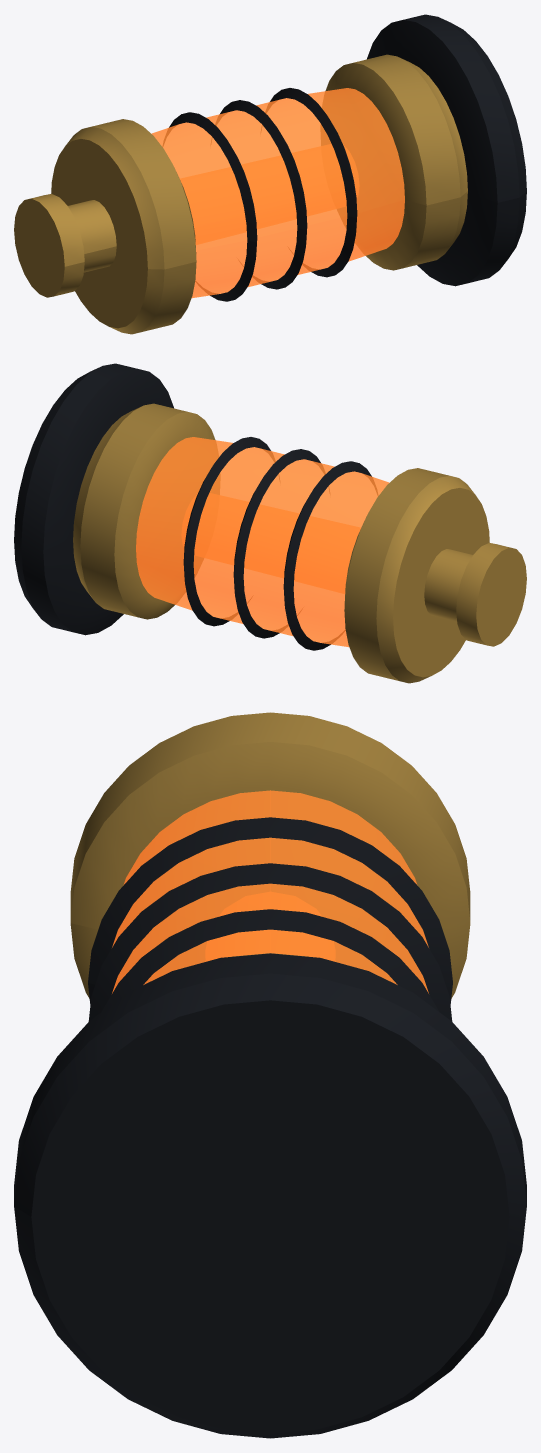
The model's file is meleemod_infusion_ember.glb.
3 renders of one model, top to bottom at view 1: azimuth 30°, elevation 25°; view 2: azimuth 150°, elevation 25°; view 3: azimuth 270°, elevation 25°, orthographic. The views are drawn at different scales.
Parts seen in each view (by area): view 1: meleemod_infusion_ember_glass, meleemod_infusion_ember_ring_a, meleemod_infusion_ember_ring_b, meleemod_infusion_ember_saddle, meleemod_infusion_ember_valve, meleemod_infusion_ember_rib2, meleemod_infusion_ember_rib1, meleemod_infusion_ember_rib0; view 2: meleemod_infusion_ember_glass, meleemod_infusion_ember_ring_a, meleemod_infusion_ember_ring_b, meleemod_infusion_ember_saddle, meleemod_infusion_ember_valve, meleemod_infusion_ember_rib2, meleemod_infusion_ember_rib1, meleemod_infusion_ember_rib0; view 3: meleemod_infusion_ember_saddle, meleemod_infusion_ember_ring_b, meleemod_infusion_ember_glass, meleemod_infusion_ember_rib2, meleemod_infusion_ember_rib1, meleemod_infusion_ember_rib0.
Part boxes in pixels (bbox=[...]): meleemod_infusion_ember_glass: bbox=[151, 88, 404, 298]; meleemod_infusion_ember_ring_a: bbox=[321, 54, 467, 270]; meleemod_infusion_ember_ring_b: bbox=[51, 119, 196, 334]; meleemod_infusion_ember_saddle: bbox=[367, 14, 526, 286]; meleemod_infusion_ember_valve: bbox=[14, 194, 116, 297]; meleemod_infusion_ember_rib2: bbox=[163, 112, 257, 301]; meleemod_infusion_ember_rib1: bbox=[216, 100, 307, 289]; meleemod_infusion_ember_rib0: bbox=[265, 88, 357, 277]; meleemod_infusion_ember_glass: bbox=[136, 437, 389, 647]; meleemod_infusion_ember_ring_a: bbox=[73, 403, 219, 619]; meleemod_infusion_ember_ring_b: bbox=[344, 468, 489, 683]; meleemod_infusion_ember_saddle: bbox=[14, 363, 173, 635]; meleemod_infusion_ember_valve: bbox=[424, 543, 526, 646]; meleemod_infusion_ember_rib2: bbox=[283, 461, 377, 650]; meleemod_infusion_ember_rib1: bbox=[233, 449, 324, 638]; meleemod_infusion_ember_rib0: bbox=[183, 437, 275, 626]; meleemod_infusion_ember_saddle: bbox=[14, 953, 526, 1438]; meleemod_infusion_ember_ring_b: bbox=[70, 712, 470, 998]; meleemod_infusion_ember_glass: bbox=[112, 790, 428, 993]; meleemod_infusion_ember_rib2: bbox=[88, 817, 452, 1004]; meleemod_infusion_ember_rib1: bbox=[88, 863, 452, 1021]; meleemod_infusion_ember_rib0: bbox=[101, 909, 439, 1011].
Bounding box in the file's own units: 0.0424 × 0.0236 × 0.0236.
